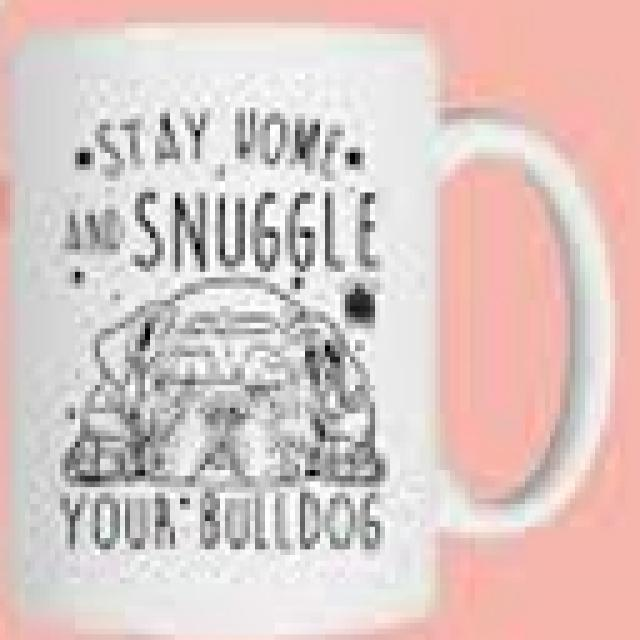taza: (14, 24, 614, 630)
